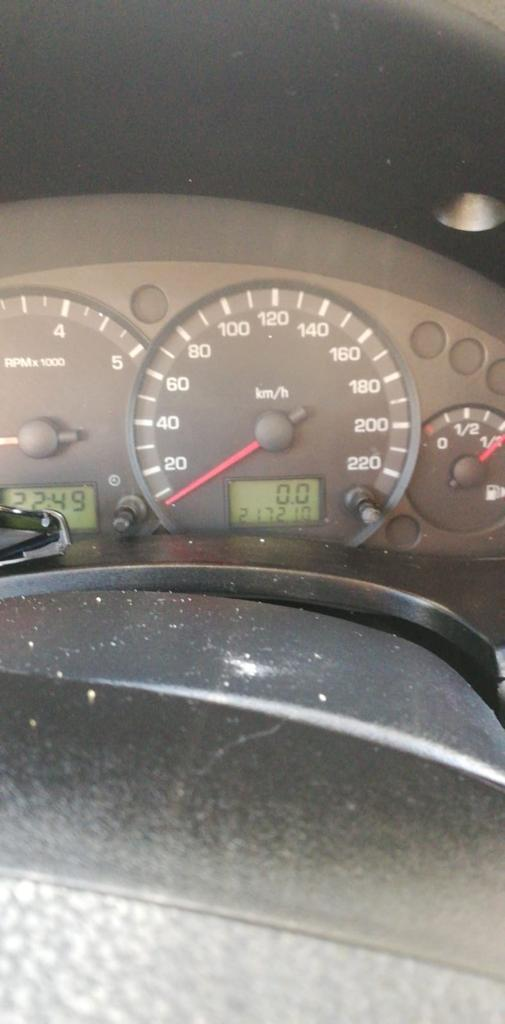,: (290, 501, 294, 505)
0: (295, 483, 309, 504), (275, 483, 289, 504), (300, 505, 310, 521)
1: (293, 506, 299, 520), (256, 508, 261, 523)
2: (275, 506, 285, 523), (238, 507, 248, 522)
7: (264, 506, 273, 522)
odometer: (223, 473, 327, 530)
